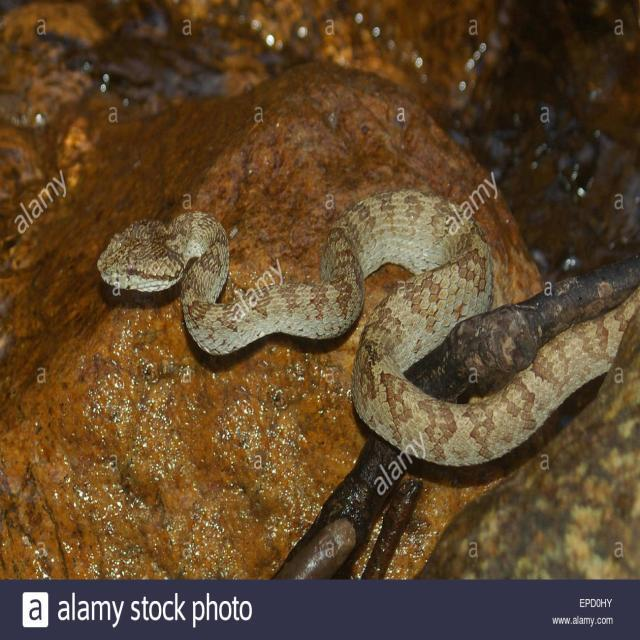Snake: (84, 183, 640, 472)
